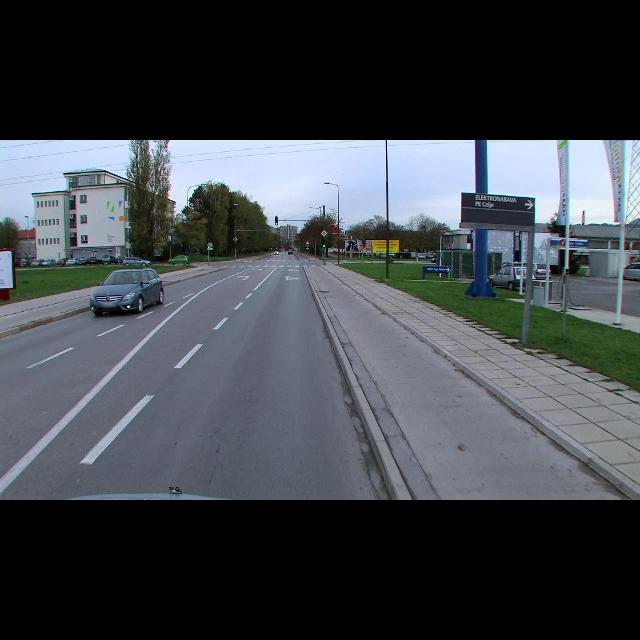Multi-inform: (462, 192, 536, 232)
